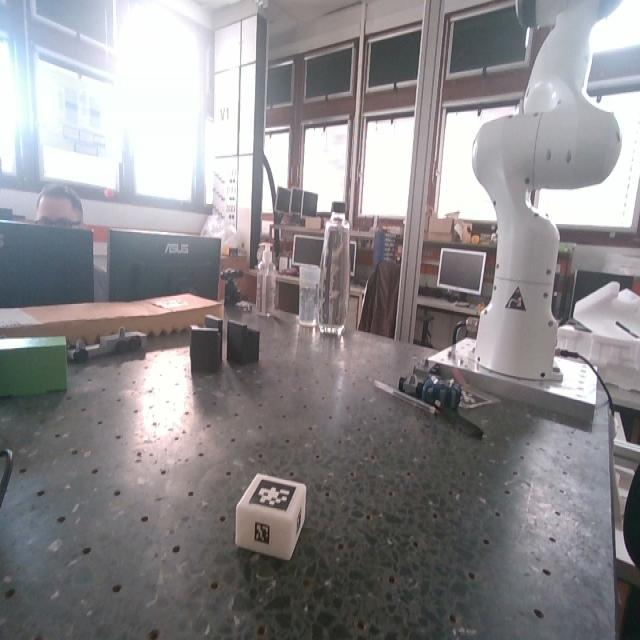Cube: (236, 471, 308, 560)
